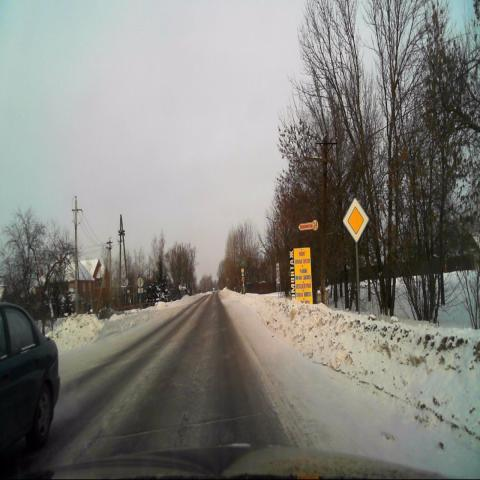2_1: (343, 198, 369, 244)
